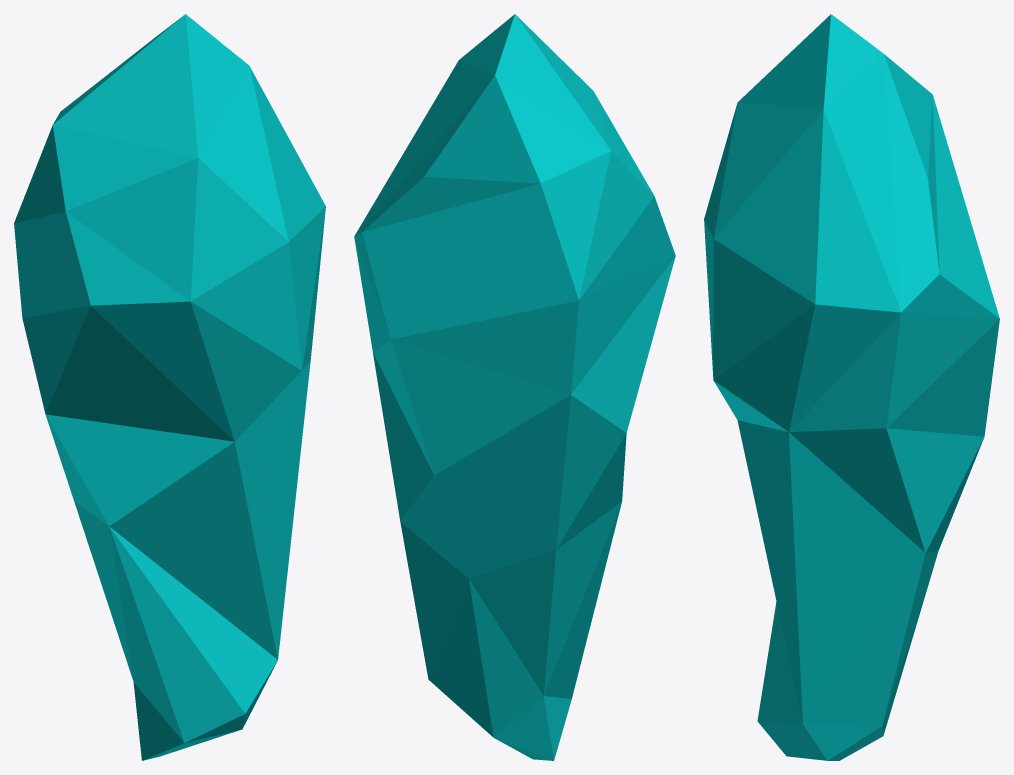
File: Crystal3.fbx
3 views of the same model, side by side, from view 1: azimuth 30°, elevation 25°; view 2: azimuth 150°, elevation 25°; view 3: azimuth 270°, elevation 25° (orthographic). The views are drawn at different scales.
Visible parts, largest first — view 1: Cube.068; view 2: Cube.068; view 3: Cube.068.
Part boxes in pixels (x1,y1,x2,y2): Cube.068: (14, 14, 325, 760); Cube.068: (354, 14, 675, 760); Cube.068: (704, 14, 999, 760).
Bounding box in the file's own units: 251 × 677 × 240.
